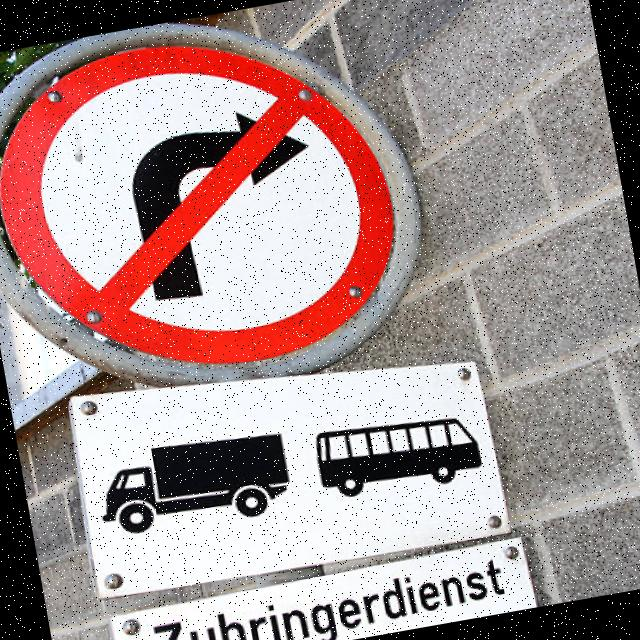do_not_turn_right: (0, 8, 425, 403)
